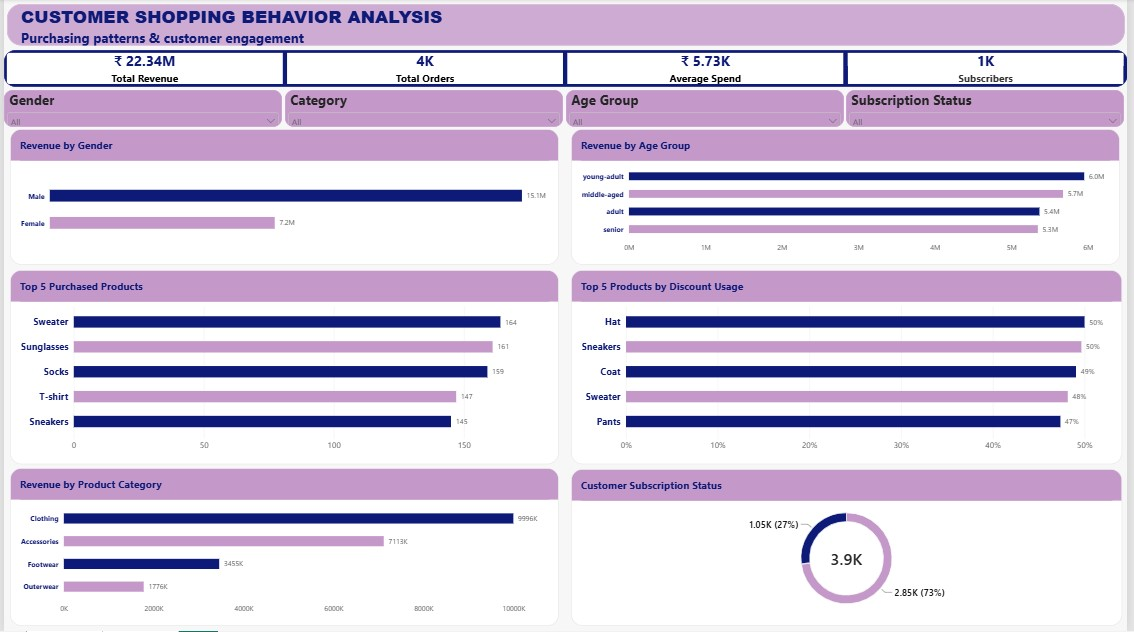

This screenshot's page, from the dashboard's own definition file:
{"tool":"powerbi","page":{"name":"Page 1","canvas":[1920,1080],"ordinal":0},"visuals":[{"type":"shape","box":[5.9,7.9,1910.1,71.2],"z":0},{"type":"textbox","title":"CUSTOMER SHOPPING BEHAVIOR ANALYSIS","box":[29.7,7.9,727.7,71.2],"z":1000},{"type":"cardVisual","fields":{"Data":["customer_shopping customer_shopping.Total Revenue","customer_shopping customer_shopping.Total Orders","customer_shopping customer_shopping.Average Spend","customer_shopping customer_shopping.Subscribers"]},"box":[0,87,1920,63.3],"z":2000},{"type":"clusteredBarChart","title":"Revenue by Gender","fields":{"Category":["customer_shopping customer_shopping.gender"],"Y":["Sum(customer_shopping customer_shopping.purchase_amount)"]},"box":[10,222.2,938.2,232.4],"z":3000},{"type":"clusteredBarChart","title":"Revenue by Age Group","fields":{"Category":["customer_shopping customer_shopping.age_group"],"Y":["Sum(customer_shopping customer_shopping.purchase_amount)"]},"box":[969,222.2,938,232.4],"z":4000},{"type":"barChart","title":"Revenue by Product Category","fields":{"Category":["customer_shopping customer_shopping.category"],"Y":["Sum(customer_shopping customer_shopping.purchase_amount)"]},"box":[10,801.5,938.2,270],"z":5000},{"type":"donutChart","title":"Customer Subscription Status","fields":{"Category":["customer_shopping customer_shopping.subscription_status"],"Y":["Count(customer_shopping customer_shopping.customer_id)"]},"box":[968.9,803.2,941.6,268.3],"z":6000},{"type":"barChart","title":"Top 5 Purchased Products","fields":{"Category":["customer_shopping customer_shopping.item_purchased"],"Y":["customer_shopping customer_shopping.Total Orders"]},"box":[10,463,938.2,331.5],"z":7000},{"type":"barChart","title":"Top 5 Products by Discount Usage","fields":{"Category":["customer_shopping customer_shopping.item_purchased"],"Y":["customer_shopping customer_shopping.Discount Rate"]},"box":[968.9,463,941.6,331.5],"z":8000},{"type":"slicer","fields":{"Values":["customer_shopping customer_shopping.gender"]},"box":[0,155.5,475,63.2],"z":9000},{"type":"slicer","fields":{"Values":["customer_shopping customer_shopping.category"]},"box":[480.2,155.5,475,63.2],"z":10000},{"type":"slicer","fields":{"Values":["customer_shopping customer_shopping.subscription_status"]},"box":[1439.5,156.2,475,63.2],"z":11000},{"type":"slicer","fields":{"Values":["customer_shopping customer_shopping.age_group"]},"box":[960.4,155.5,475,63.2],"z":12000}]}

Visuals, with their boxes in screenshot pixels (x1, y1, x2, y2), scaled from the page's 1920x1080 canvas onto the 1134x632 screenshot:
shape: detection(3, 5, 1132, 46)
"CUSTOMER SHOPPING BEHAVIOR ANALYSIS" textbox: detection(18, 5, 447, 46)
cardVisual - customer_shopping customer_shopping.Total Revenue x customer_shopping customer_shopping.Total Orders: detection(0, 51, 1133, 88)
"Revenue by Gender" clusteredBarChart: detection(6, 130, 560, 266)
"Revenue by Age Group" clusteredBarChart: detection(572, 130, 1126, 266)
"Revenue by Product Category" barChart: detection(6, 469, 560, 627)
"Customer Subscription Status" donutChart: detection(572, 470, 1128, 627)
"Top 5 Purchased Products" barChart: detection(6, 271, 560, 465)
"Top 5 Products by Discount Usage" barChart: detection(572, 271, 1128, 465)
slicer - customer_shopping customer_shopping.gender: detection(0, 91, 281, 128)
slicer - customer_shopping customer_shopping.category: detection(284, 91, 564, 128)
slicer - customer_shopping customer_shopping.subscription_status: detection(850, 91, 1131, 128)
slicer - customer_shopping customer_shopping.age_group: detection(567, 91, 848, 128)
